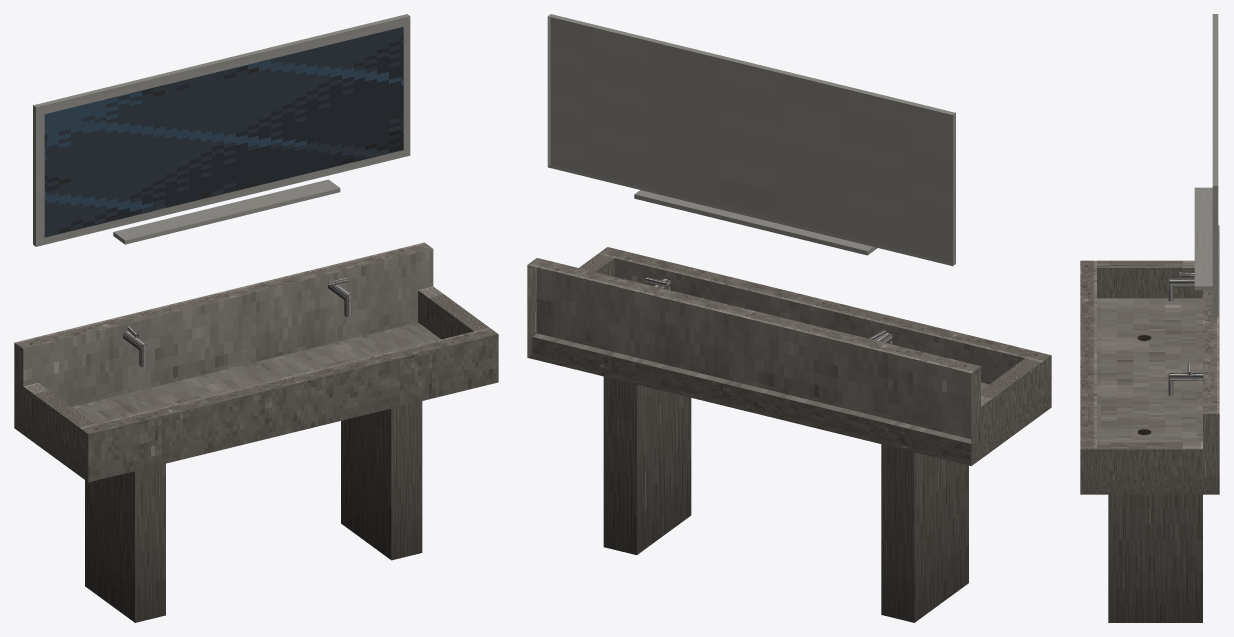
Rendered from prop_hallsink-16-0.glb.
The picture shows the model from 3 angles, left to right: view 1: azimuth 30°, elevation 25°; view 2: azimuth 150°, elevation 25°; view 3: azimuth 270°, elevation 25°; orthographic projection. The views are drawn at different scales.
Parts seen in each view (by area): view 1: prop_hallsink-16-0; view 2: prop_hallsink-16-0; view 3: prop_hallsink-16-0.
Part boxes in pixels (x1=…): prop_hallsink-16-0: x1=14, y1=14, x2=498, y2=622; prop_hallsink-16-0: x1=527, y1=14, x2=1051, y2=622; prop_hallsink-16-0: x1=1080, y1=14, x2=1219, y2=622.
Size of the model in its own units: 1.6 by 1.81 by 0.5.
4 materials, 4 textured.
